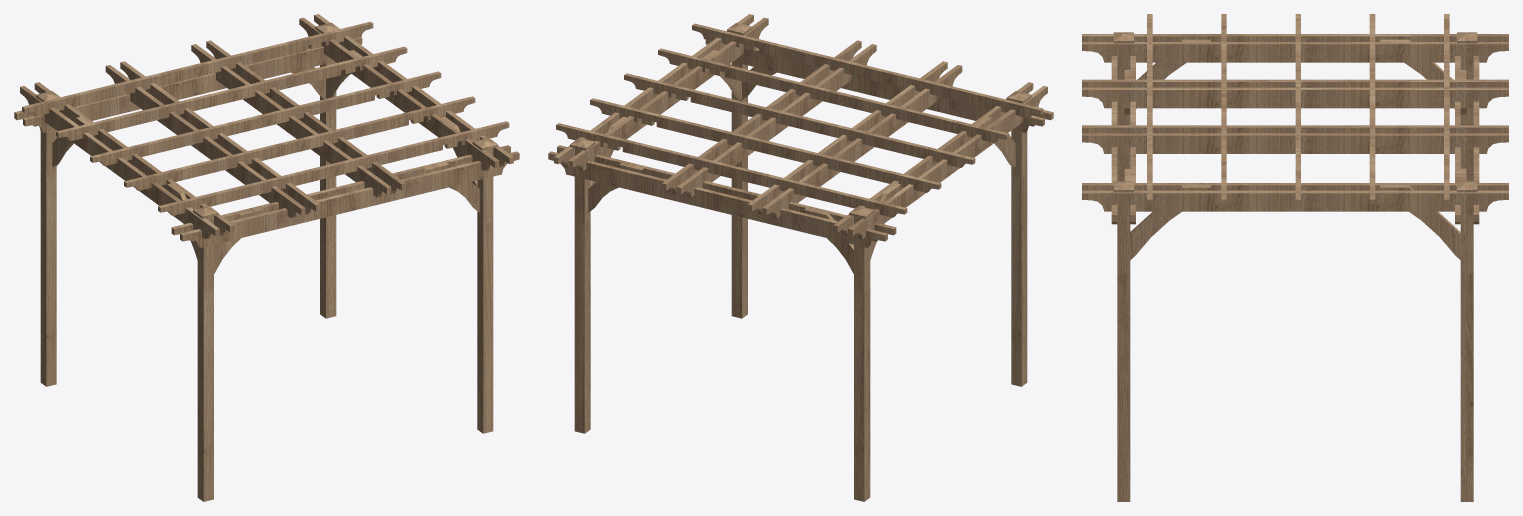
The model's file is CLASSIC PERGOLA.glb.
The picture shows the model from 3 angles, left to right: view 1: azimuth 30°, elevation 25°; view 2: azimuth 150°, elevation 25°; view 3: azimuth 270°, elevation 25°; orthographic projection. The views are drawn at different scales.
Parts seen in each view (by area): view 1: CLASSIC PERGOLA; view 2: CLASSIC PERGOLA; view 3: CLASSIC PERGOLA.
Part boxes in pixels (bbox=[...]): CLASSIC PERGOLA: bbox=[14, 14, 519, 501]; CLASSIC PERGOLA: bbox=[548, 14, 1053, 501]; CLASSIC PERGOLA: bbox=[1082, 14, 1508, 501].
Bounding box in the file's own units: 3.01 × 2.4 × 2.92.
1 material, 1 textured.
